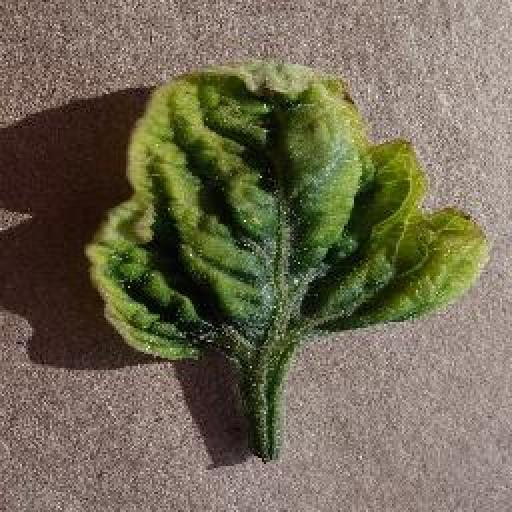Yellow Leaf Curl Virus: (87, 61, 489, 363)
